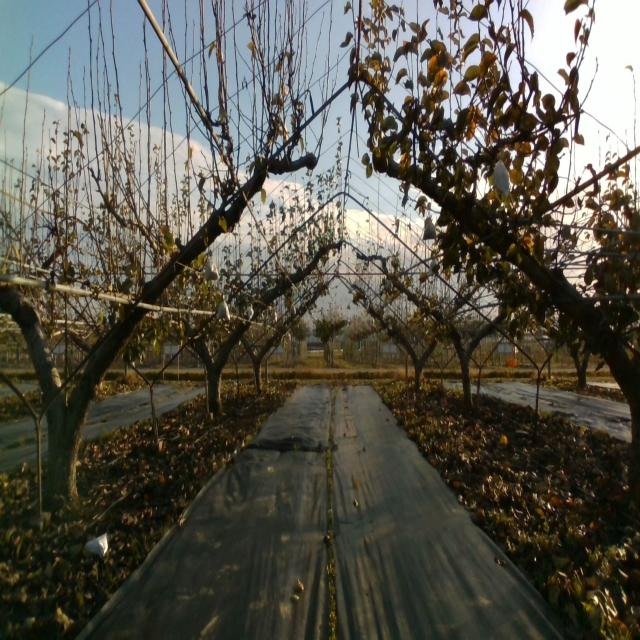pearbags: (493, 159, 510, 198), (204, 255, 218, 280), (217, 294, 230, 320), (422, 219, 437, 241)
